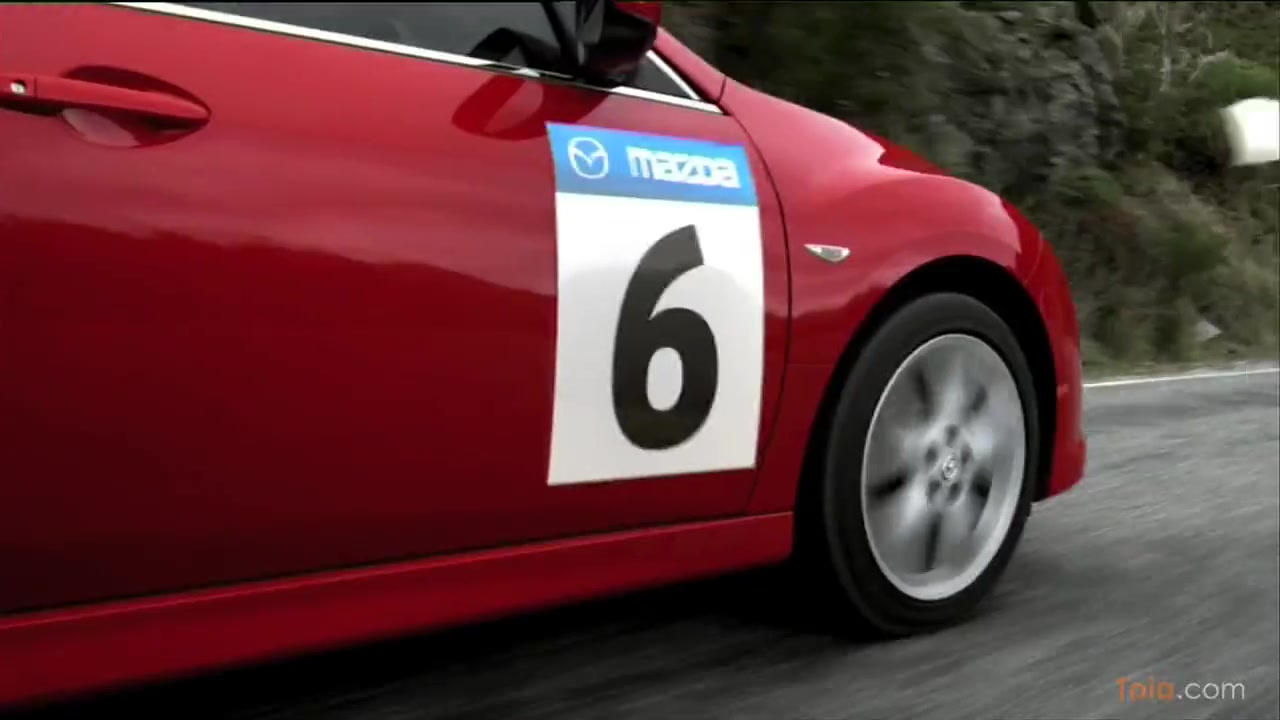car: (3, 1, 1086, 708)
